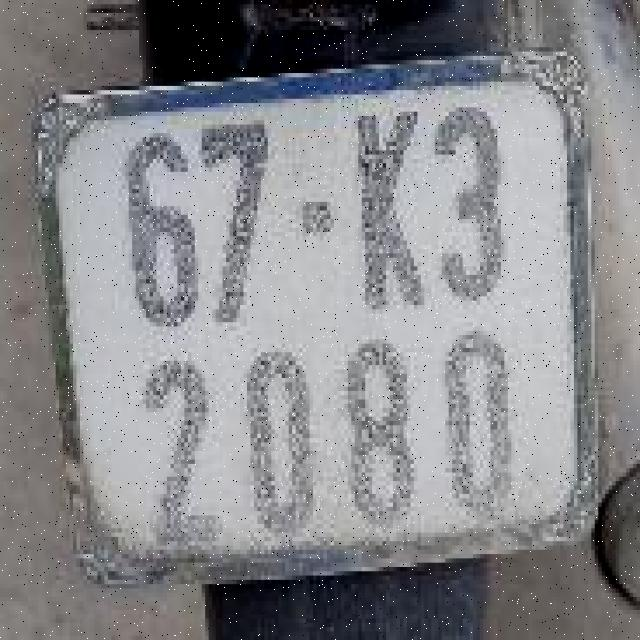0: (440, 316, 523, 526), (231, 342, 315, 530)
2: (122, 335, 219, 546)
3: (440, 94, 503, 300)
6: (104, 120, 209, 331)
7: (197, 111, 280, 326)
8: (341, 326, 421, 528)
K: (344, 86, 432, 313)
